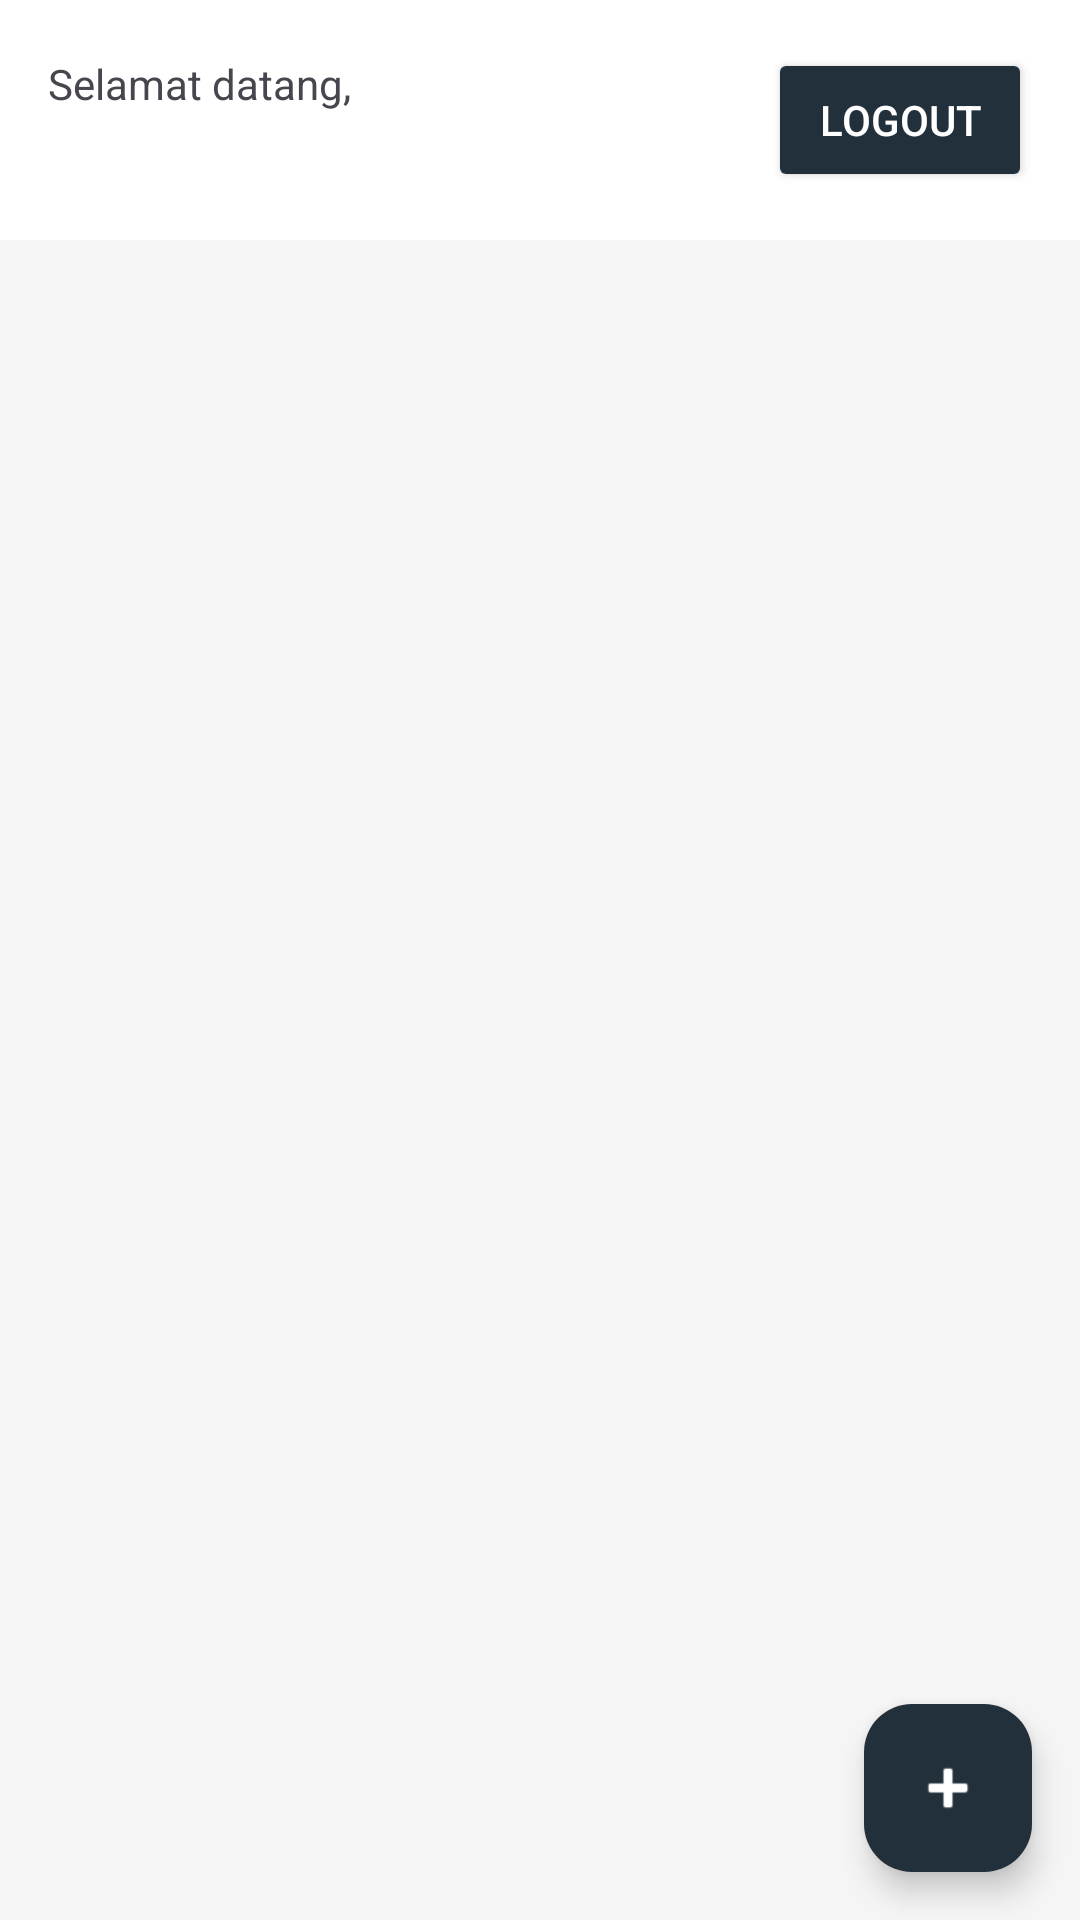

Icon click points for this 1080px x 1920px phone screenshot, format (x=x, y=y):
Tambah Vehicle: (x=948, y=1788)
